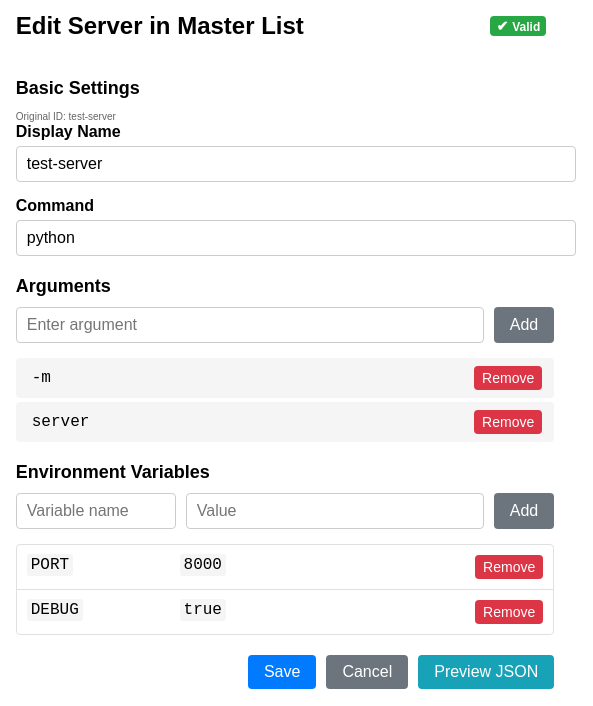
it: MasterServerForm › handles removing arguments
Check: the text "-m" is shown, box [28,367,55,389]
Note: Get the remove button for the first arg
Click the button "Remove" in the row of "-m": click(508, 378) [474,366,542,390]
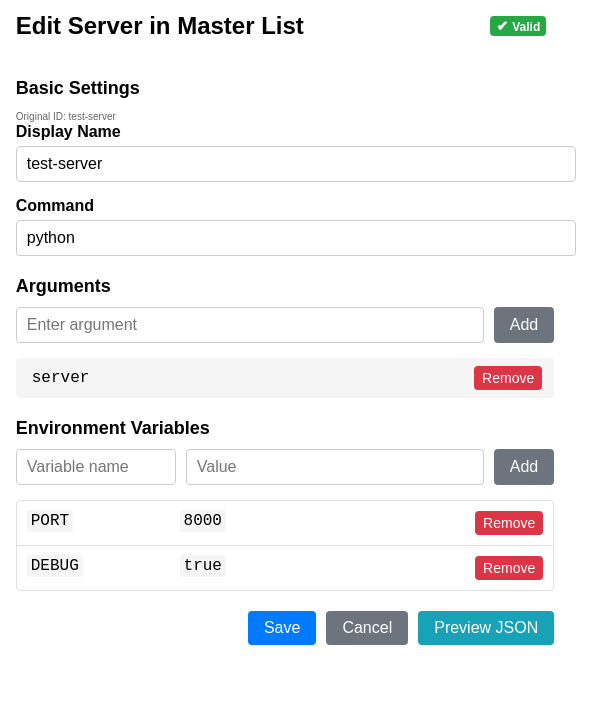
Check: the text "-m" is gone
